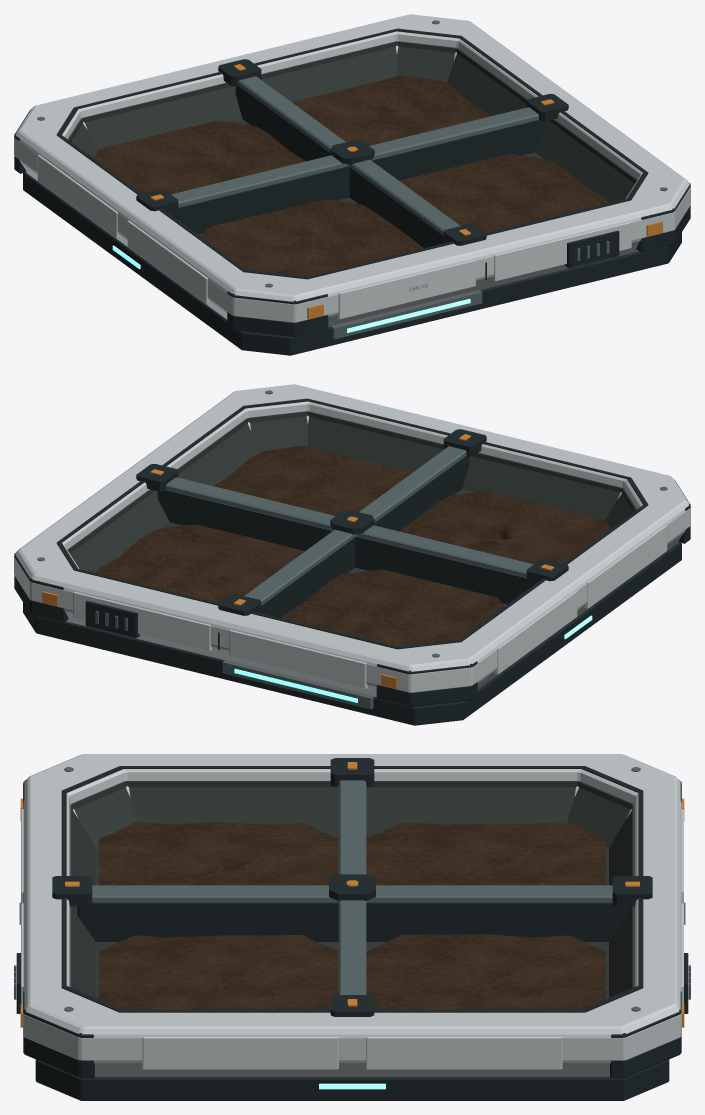
File: Saksı 2x2.fbx
3 views of the same model, one above another, from view 1: azimuth 30°, elevation 25°; view 2: azimuth 150°, elevation 25°; view 3: azimuth 270°, elevation 25° (orthographic). The views are drawn at different scales.
Parts seen in each view (by area): view 1: CAN_2x2_DIVIDED_GAME; view 2: CAN_2x2_DIVIDED_GAME; view 3: CAN_2x2_DIVIDED_GAME.
Boxes of the visible parts, x1,y1,x2,y2 form: CAN_2x2_DIVIDED_GAME: [14, 14, 690, 355]; CAN_2x2_DIVIDED_GAME: [14, 384, 690, 725]; CAN_2x2_DIVIDED_GAME: [14, 754, 690, 1100].
Bounding box in the file's own units: 3.97 × 0.56 × 4.06.
